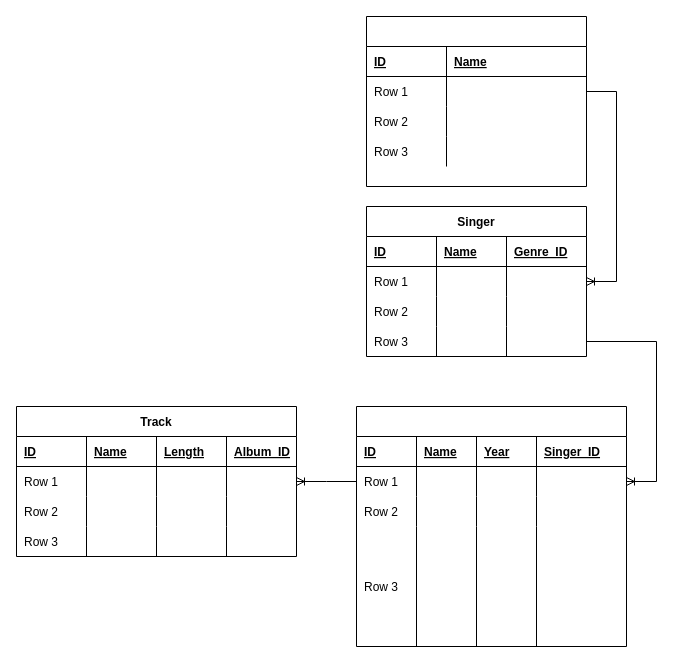
This 673x663 diagram has some shape labels left out. Here are the shapes that lost their labels. From the top down, the box of each, then its label:
(366, 16, 586, 186): Genre
(356, 406, 626, 646): Album
